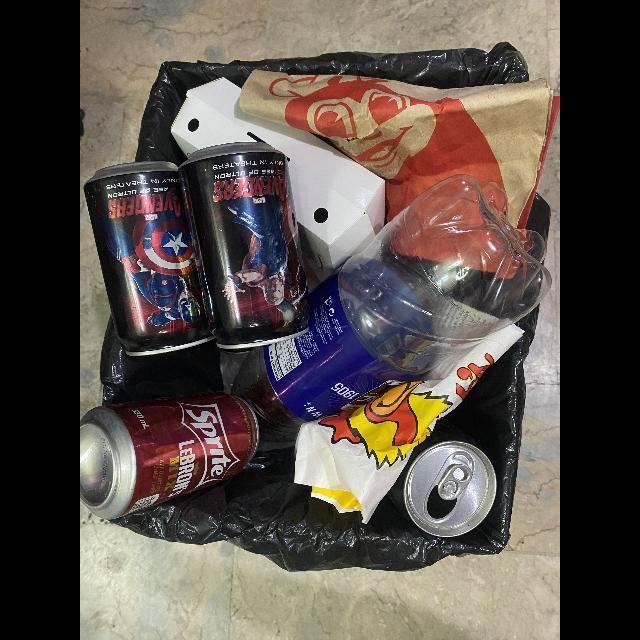aluminum: (179, 141, 310, 349), (84, 161, 214, 356), (80, 391, 259, 519), (403, 441, 497, 537)
cardboard: (170, 77, 386, 286)
paper: (239, 68, 560, 279)
